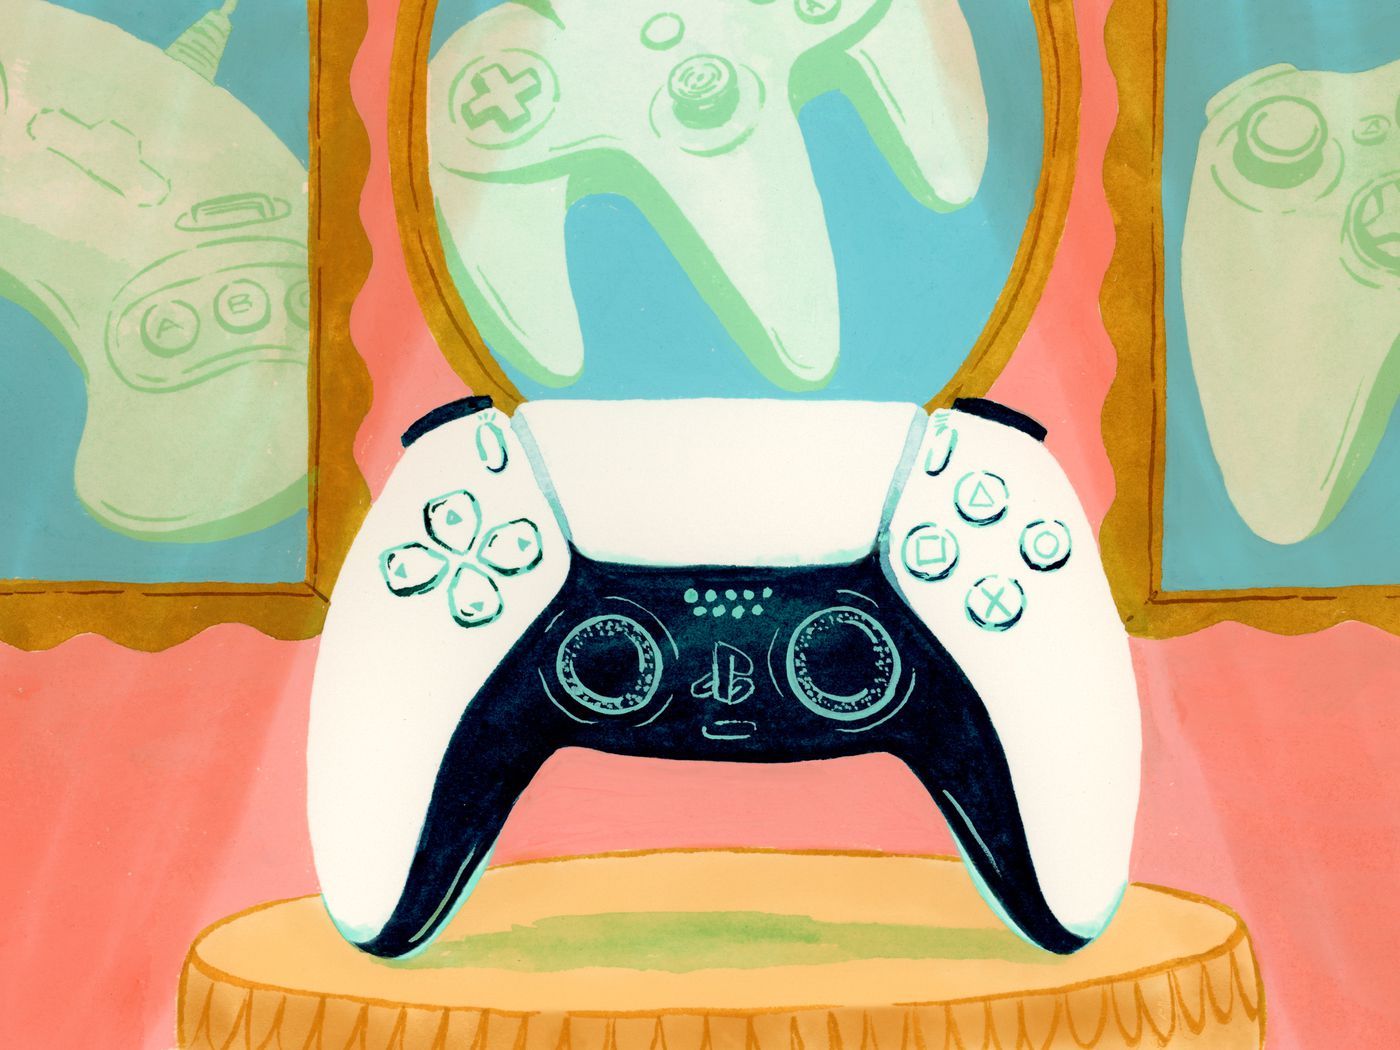controller: (306, 397, 1143, 956)
